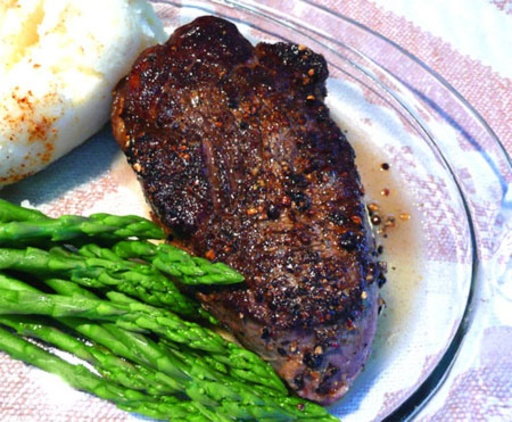background: (0, 0, 310, 278)
